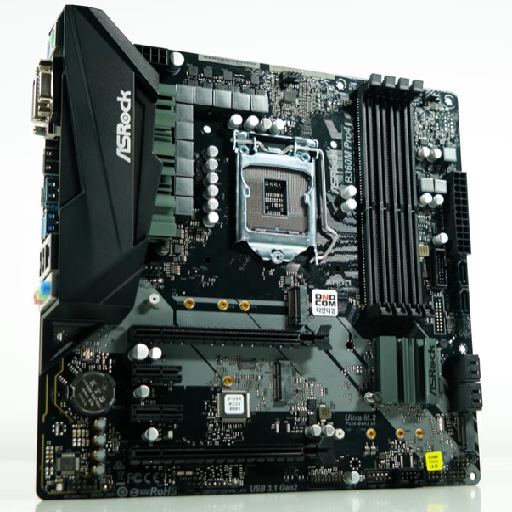CPU: (228, 128, 324, 262)
GPU: (123, 440, 323, 472)
MOTHERBOARD: (23, 4, 488, 500)
RAM: (348, 72, 435, 323)
SSD: (269, 356, 301, 409)
